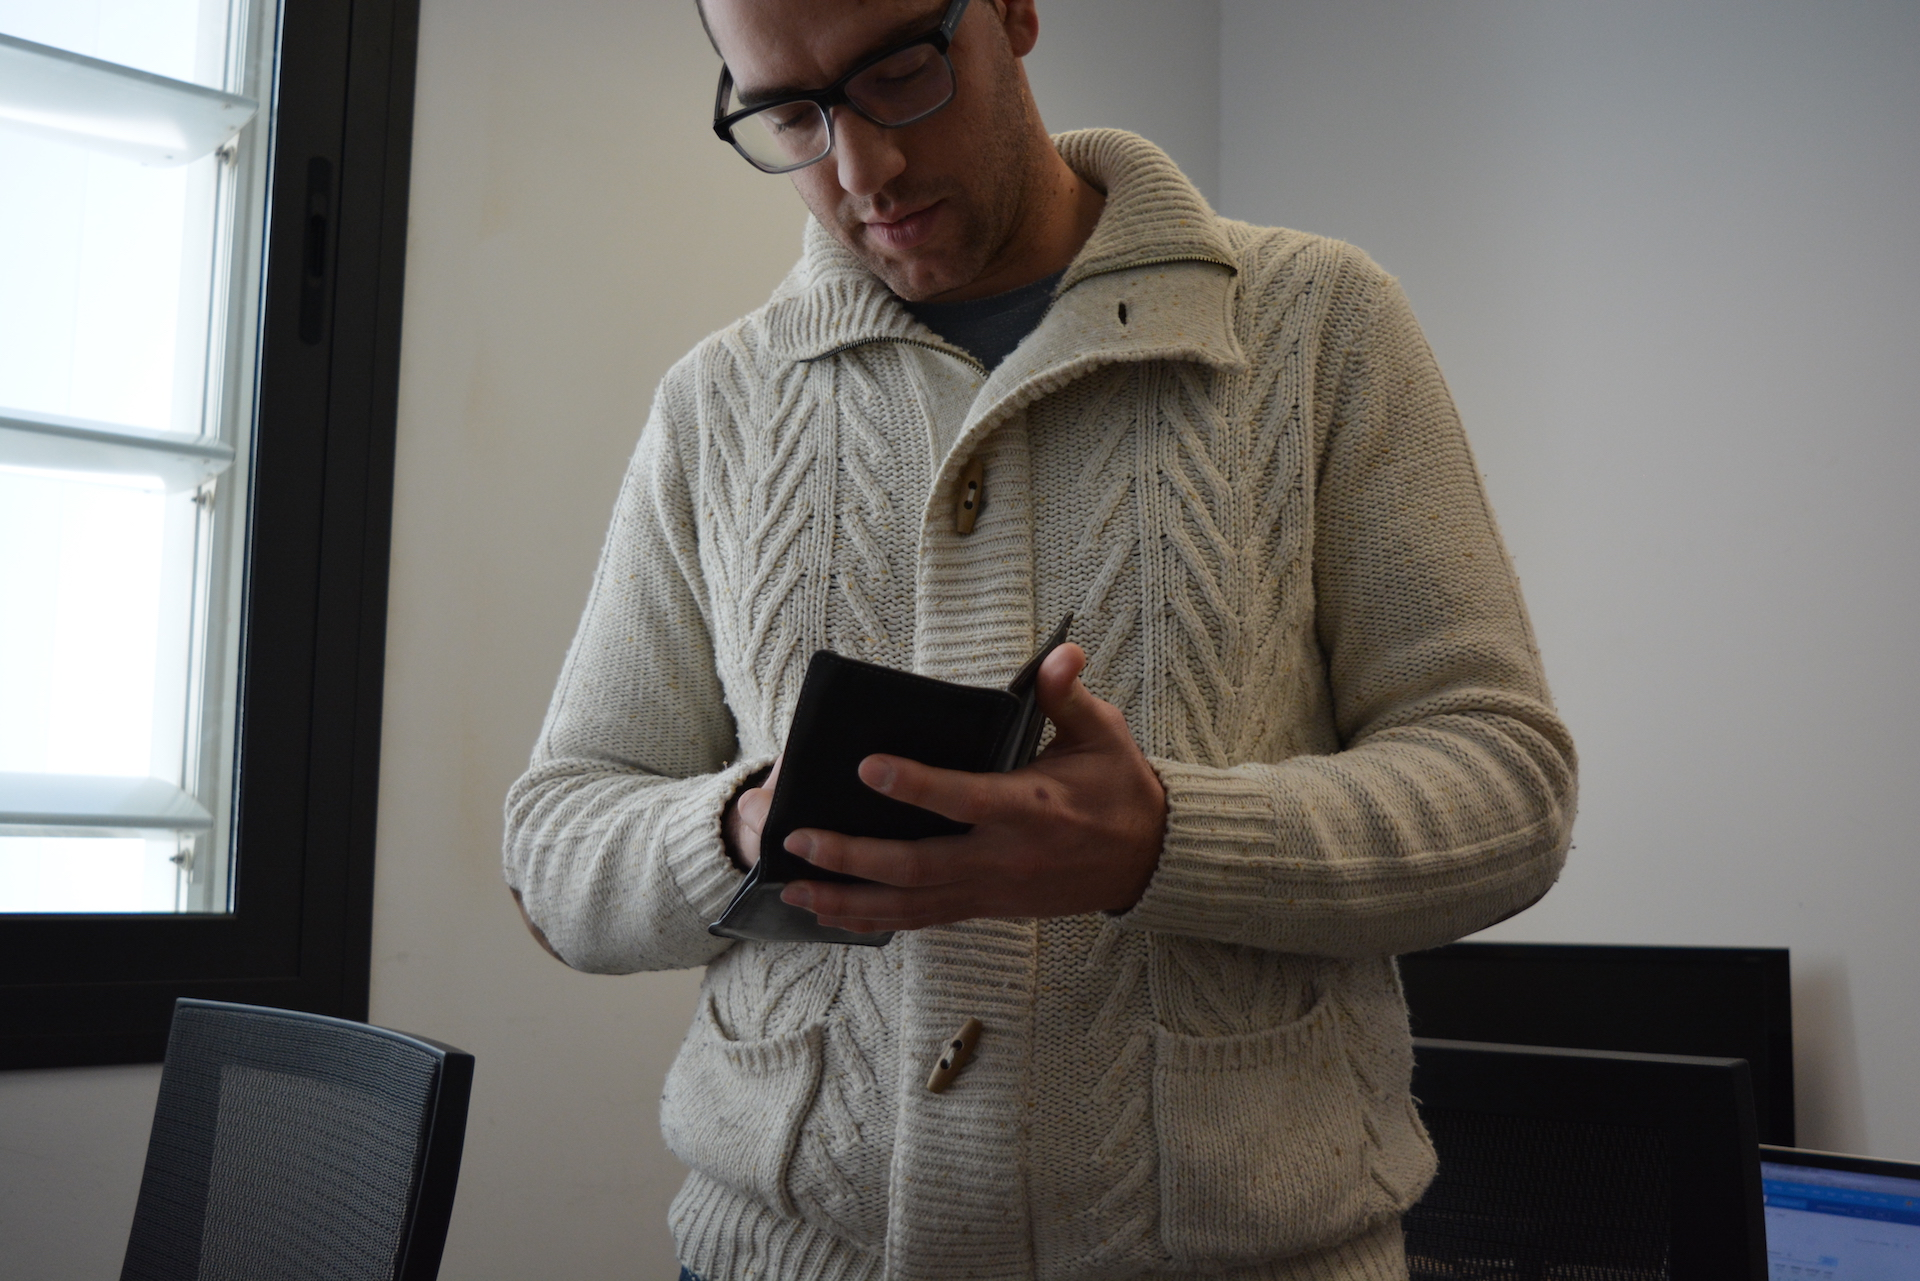monedero: (705, 608, 1079, 949)
